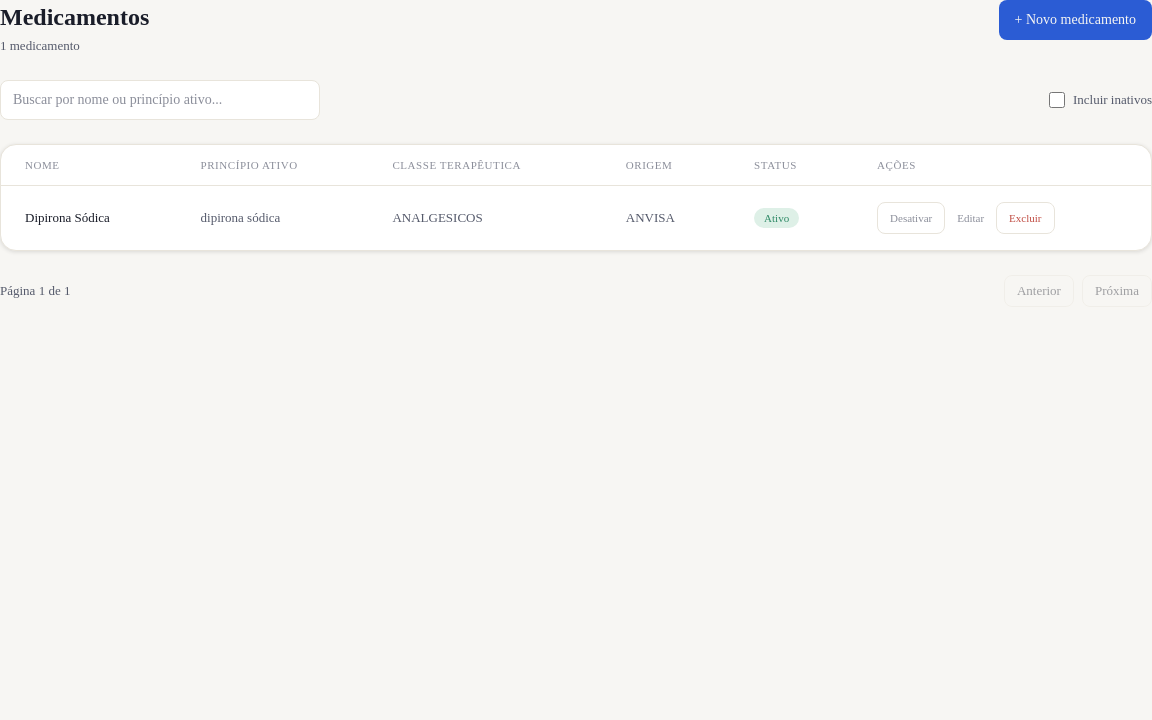
Test case: MedicationList (integration) › deactivates a medication after confirmation
This screenshot has width=1152, height=720.
Click the button with test id "medication-toggle-button-m1": (911, 218) top-left (877, 202), bottom-right (945, 234)
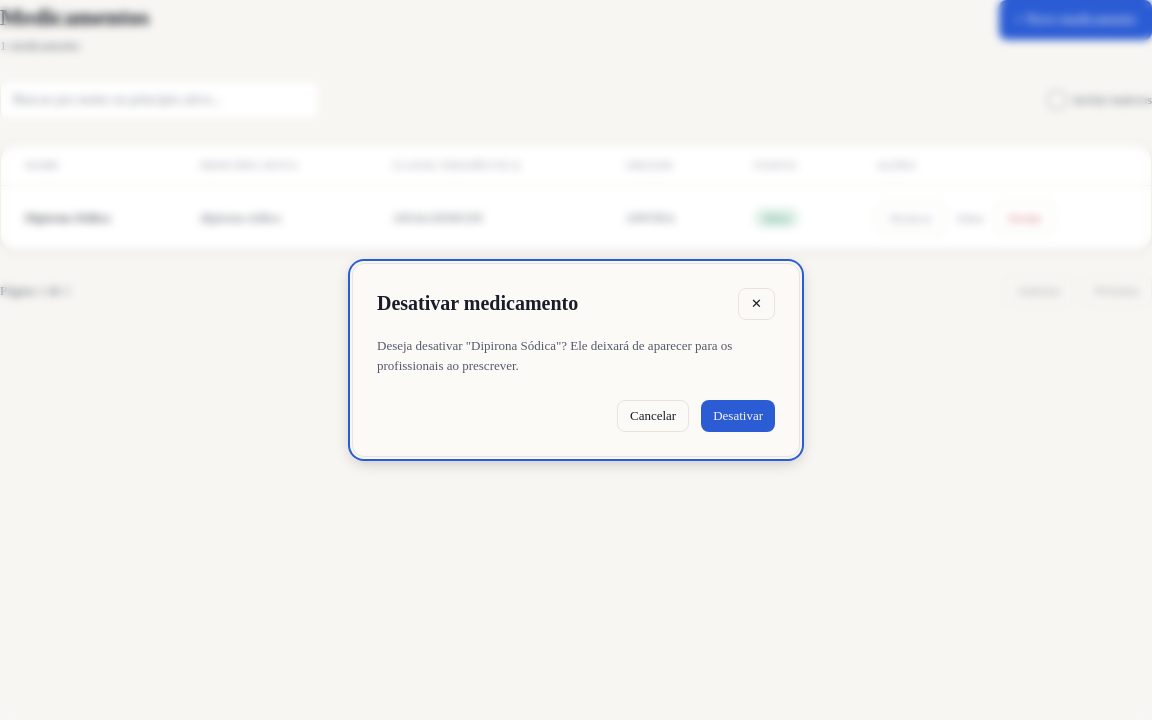
Click the button with test id "medication-toggle-dialog-confirm": (738, 416) top-left (701, 400), bottom-right (775, 432)
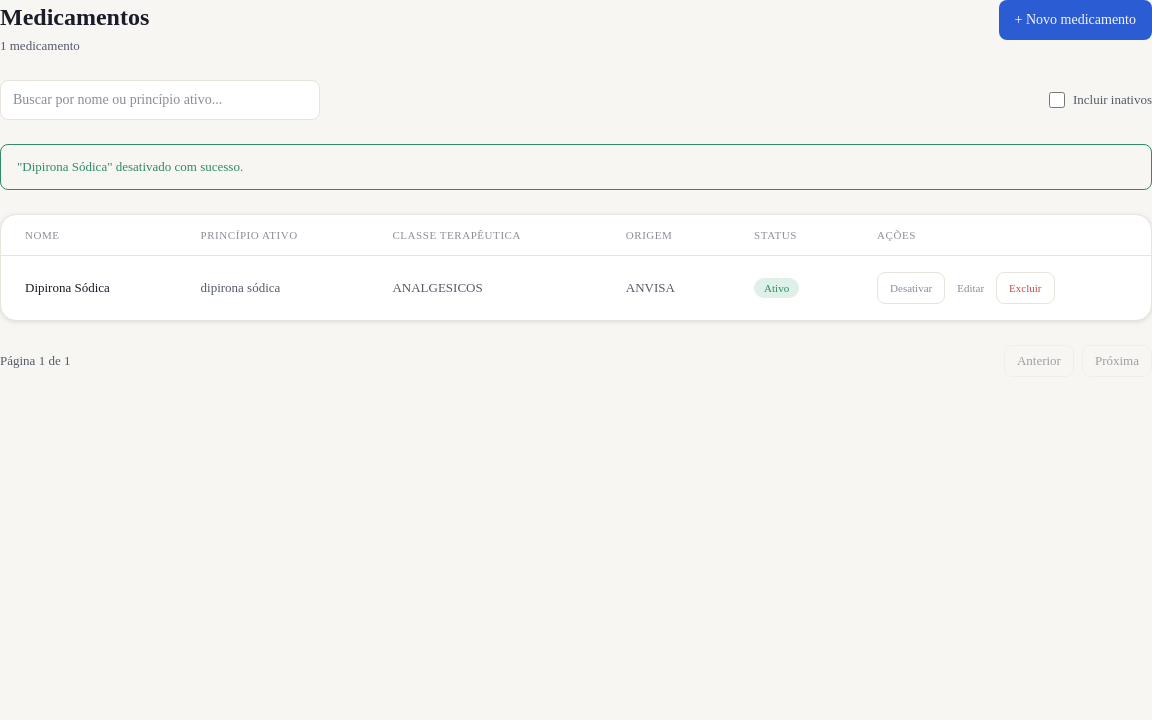
Result: the message "\"Dipirona Sódica\" desativado com sucesso." is shown at top-left (0, 144), bottom-right (1151, 190)
